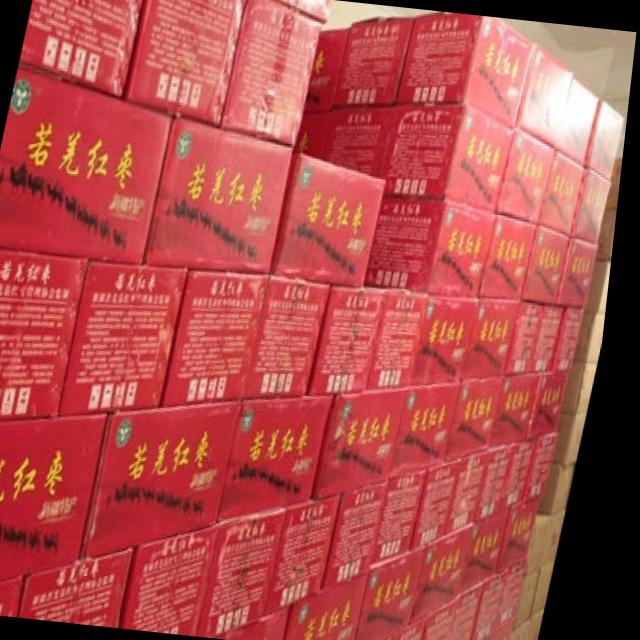box: (0, 62, 177, 263), (91, 400, 250, 558), (147, 113, 298, 273), (0, 412, 117, 583), (68, 257, 194, 414), (0, 245, 94, 421), (398, 13, 535, 128), (276, 149, 390, 287), (124, 0, 247, 127), (223, 0, 324, 145), (169, 267, 275, 405), (229, 393, 342, 522), (384, 103, 517, 211), (371, 194, 500, 292), (20, 0, 142, 101), (212, 508, 298, 635), (250, 276, 337, 396), (134, 525, 229, 634), (326, 389, 415, 499), (32, 545, 147, 626), (279, 494, 353, 614), (316, 285, 393, 392), (400, 379, 471, 481), (334, 481, 400, 590), (334, 16, 414, 105), (416, 291, 486, 385), (423, 522, 486, 625), (373, 545, 439, 640), (375, 288, 436, 390), (518, 44, 576, 149), (497, 130, 560, 224), (299, 571, 381, 640), (381, 470, 437, 569), (485, 212, 545, 300), (324, 104, 397, 175), (469, 295, 526, 380), (459, 375, 513, 459), (423, 459, 470, 553), (513, 301, 573, 374), (474, 505, 521, 597), (527, 223, 578, 307), (455, 447, 501, 536), (546, 148, 590, 235), (559, 75, 601, 164), (307, 28, 351, 108), (503, 370, 549, 444), (511, 492, 552, 573), (588, 98, 627, 181), (485, 441, 523, 522), (565, 235, 604, 308), (538, 369, 578, 439), (536, 509, 576, 575), (580, 168, 615, 243), (512, 436, 547, 510), (231, 606, 307, 640), (506, 561, 539, 633), (559, 304, 593, 369), (488, 569, 519, 640), (538, 428, 567, 501), (297, 105, 335, 155), (570, 359, 604, 414), (560, 412, 594, 467), (548, 463, 585, 513), (526, 565, 555, 627), (467, 582, 496, 640), (0, 575, 40, 615), (584, 310, 613, 364), (437, 596, 472, 640), (592, 258, 617, 312), (600, 204, 622, 263), (546, 557, 567, 616), (278, 0, 329, 23), (525, 610, 557, 640), (406, 617, 441, 640), (612, 157, 626, 207), (497, 624, 527, 640)
